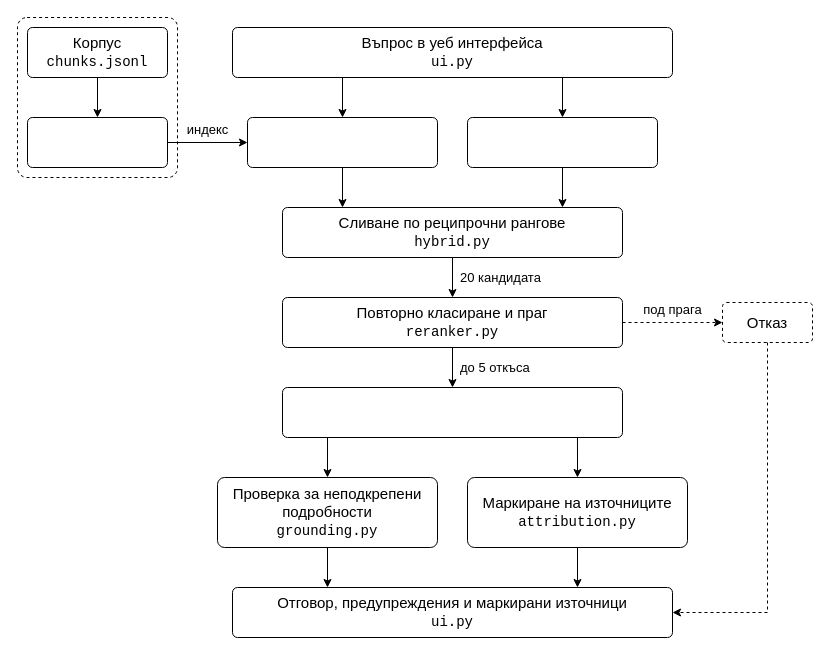
The diagram is 830 pixels wide and 655 high, and some of its shapes have lost their labels. Here are the shapes that lost their labels. From the top down, the centre of each, then its label:
the point at 97,142: Индексиране build_index.py
the point at 342,142: Семантично търсене retriever.py , FAISS
the point at 562,142: Лексикално търсене bm25.py
the point at 452,412: Генериране на отговора generator.py , Ollama
